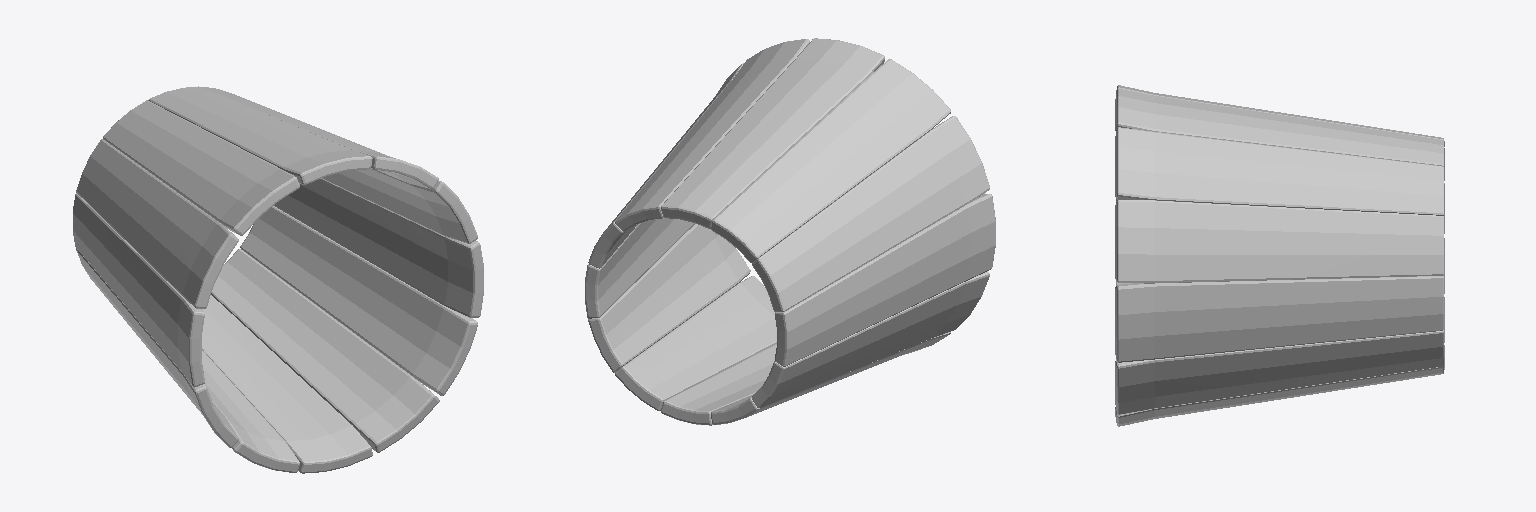
File: bucket_uj.obj
3 views of the same model, side by side, from view 1: azimuth 30°, elevation 25°; view 2: azimuth 150°, elevation 25°; view 3: azimuth 270°, elevation 25° (orthographic).
Parts seen in each view (by area): view 1: bucket; view 2: bucket; view 3: bucket.
Boxes of the visible parts, x1=… form: bucket: x1=73, y1=86, x2=483, y2=473; bucket: x1=585, y1=38, x2=995, y2=425; bucket: x1=1115, y1=85, x2=1444, y2=426.
Bounding box in the file's own units: 1.53 × 1.53 × 1.48.